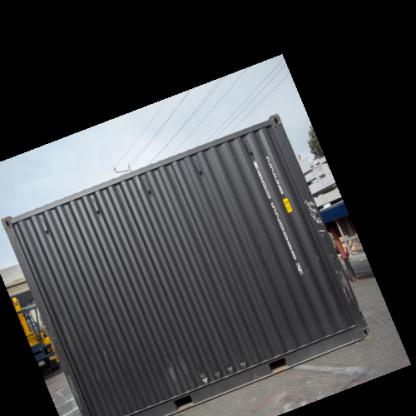Damage: (293, 190, 339, 305), (188, 358, 256, 387)
